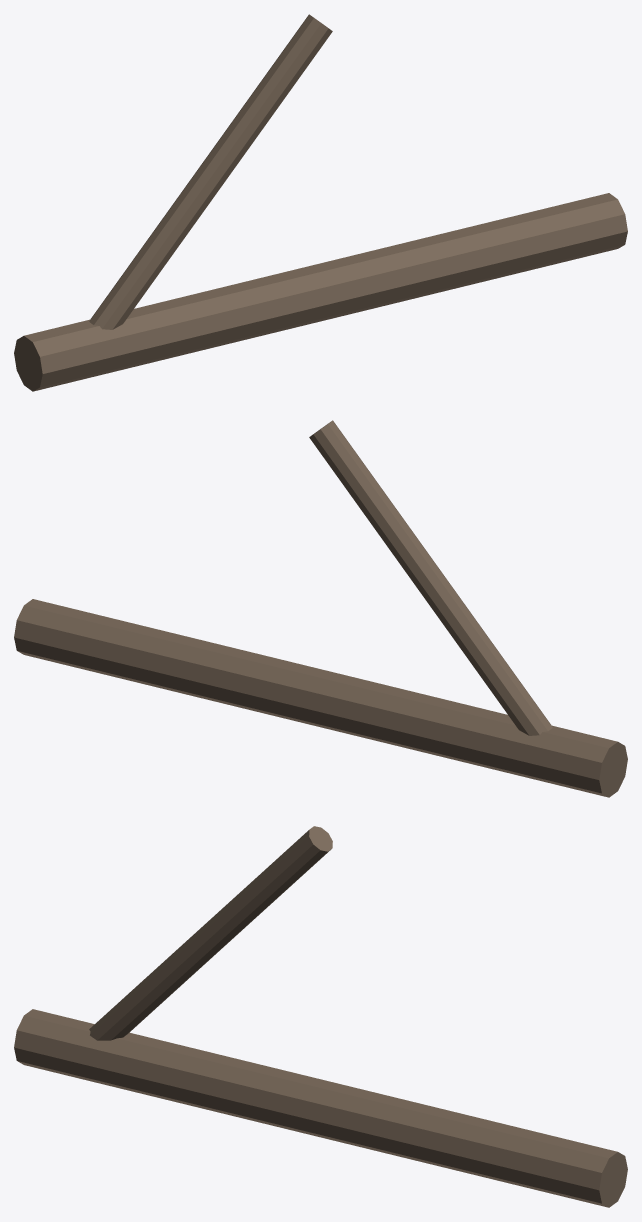
The model's file is roof_beam_intact.glb.
The picture shows the model from 3 angles, top to bottom: view 1: azimuth 30°, elevation 25°; view 2: azimuth 150°, elevation 25°; view 3: azimuth 330°, elevation 25°; orthographic projection.
Visible parts, largest first — view 1: Body.045; view 2: Body.045; view 3: Body.045.
Boxes of the visible parts, box(x1,y1,x2,y2) form: Body.045: box(14, 14, 627, 391); Body.045: box(14, 420, 627, 797); Body.045: box(14, 826, 627, 1207).
Size of the model in its own units: 2 by 0.9896 by 0.17.
